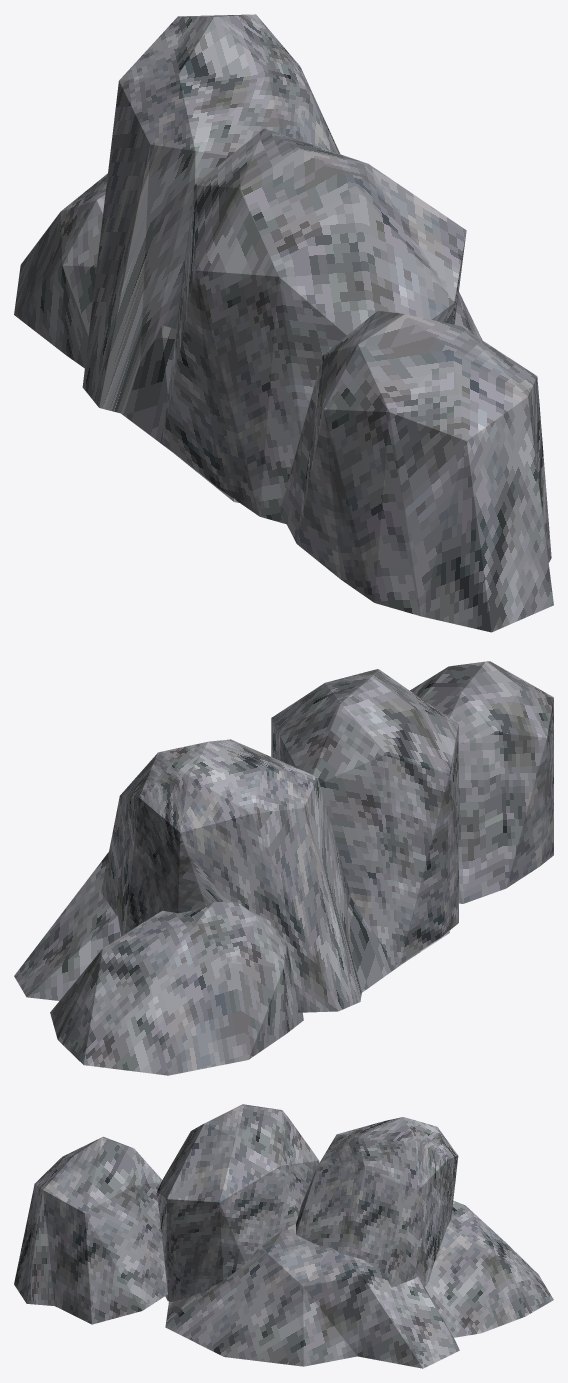
Rendered from lod_rockgp2_18.obj.
The picture shows the model from 3 angles, top to bottom: view 1: azimuth 30°, elevation 25°; view 2: azimuth 150°, elevation 25°; view 3: azimuth 270°, elevation 25°; orthographic projection. The views are drawn at different scales.
Visible parts, largest first — view 1: lod_rockgp2_18; view 2: lod_rockgp2_18; view 3: lod_rockgp2_18.
Boxes of the visible parts, bbox=[...] form: lod_rockgp2_18: bbox=[14, 14, 553, 632]; lod_rockgp2_18: bbox=[14, 661, 553, 1075]; lod_rockgp2_18: bbox=[14, 1104, 553, 1368].
Bounding box in the file's own units: 27.69 × 24.55 × 59.47.
2 materials, 2 textured.
